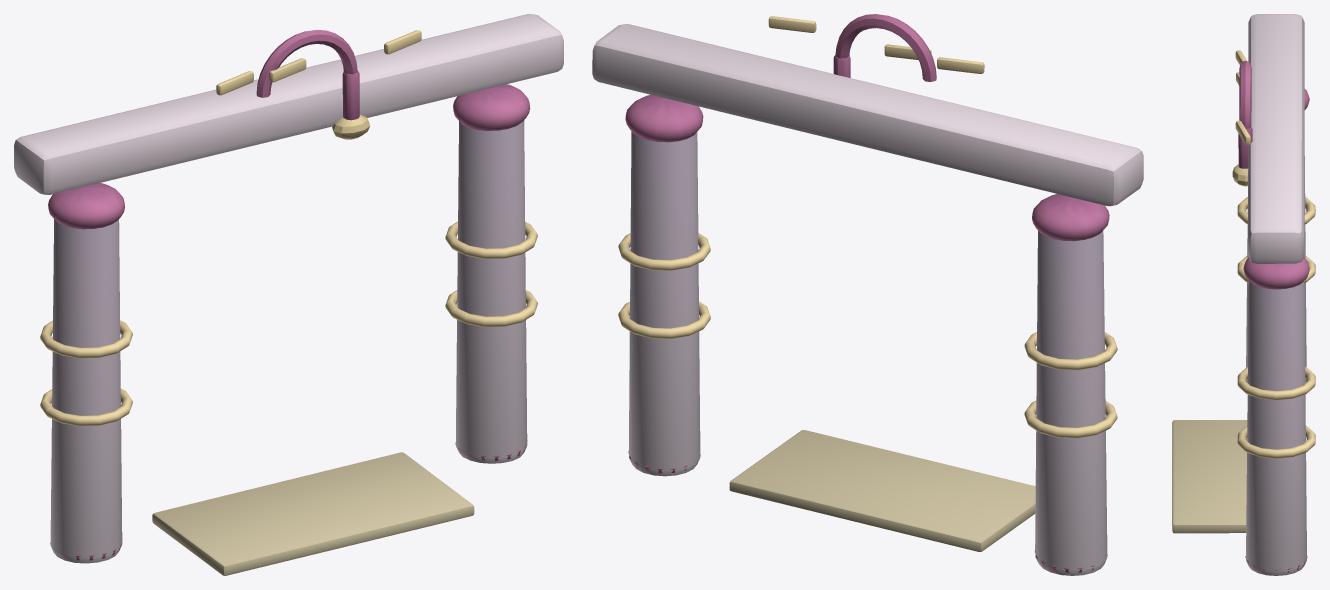
3 renders of one model, left to right at view 1: azimuth 30°, elevation 25°; view 2: azimuth 150°, elevation 25°; view 3: azimuth 270°, elevation 25°, orthographic. The views are drawn at different scales.
Parts seen in each view (by area): view 1: gate_ba699ccf; view 2: gate_ba699ccf; view 3: gate_ba699ccf.
Boxes of the visible parts, x1,y1,x2,y2 form: gate_ba699ccf: (14,14,563,575); gate_ba699ccf: (592,14,1143,575); gate_ba699ccf: (1172,14,1315,575).
Size of the model in its own units: 5.01 by 4.46 by 1.38.
